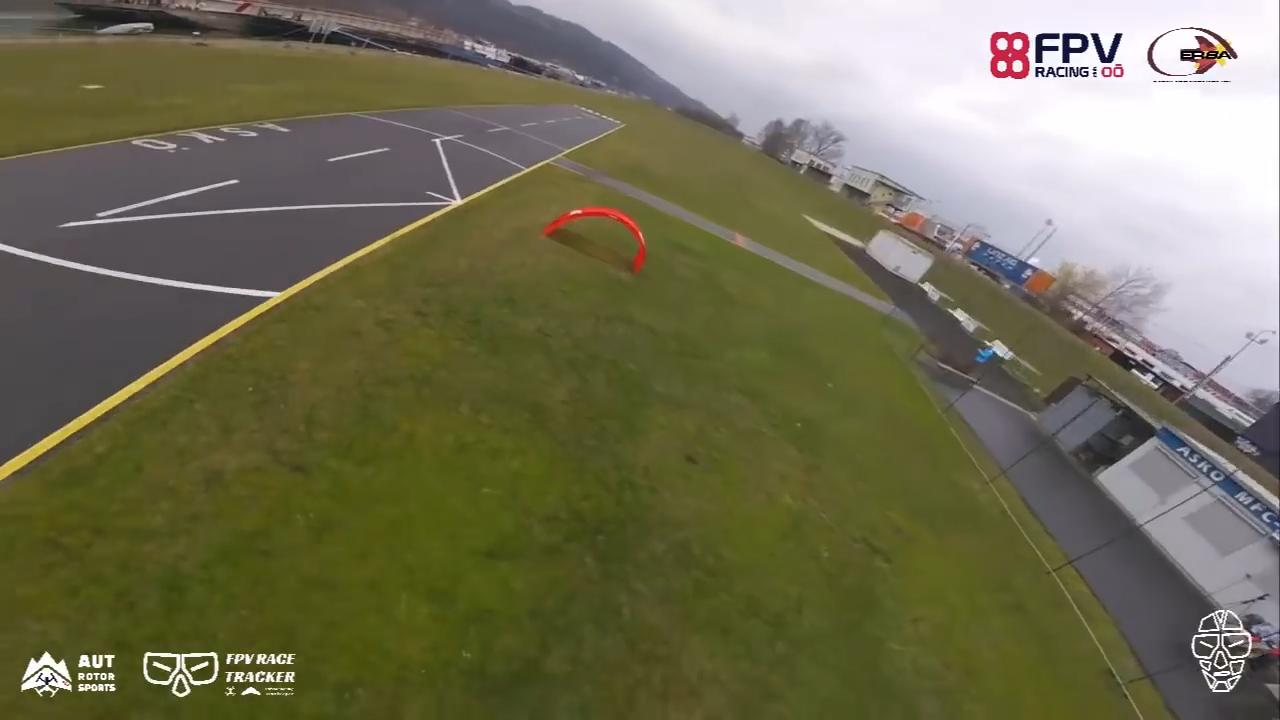gate: (542, 205, 646, 276)
